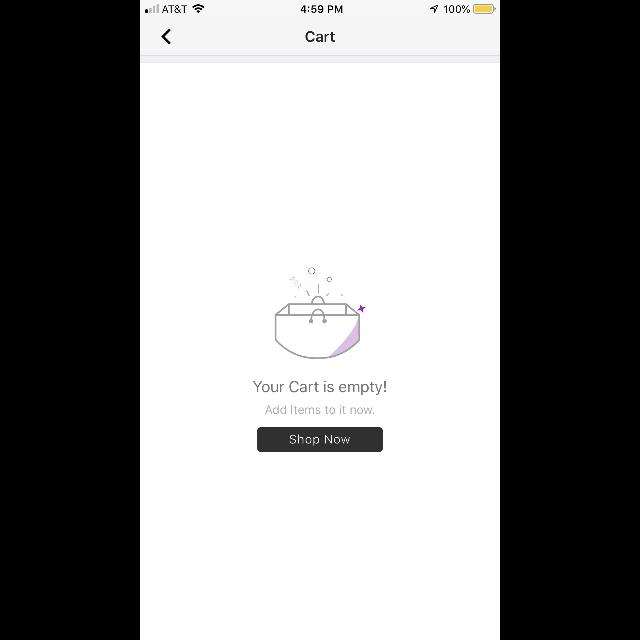icon: (162, 29, 170, 45)
image: (274, 268, 366, 358)
text: (254, 380, 386, 396), (266, 406, 374, 414), (306, 32, 334, 42)
textbutton: (257, 428, 383, 452)
uppertaskbar: (140, 0, 500, 14)
